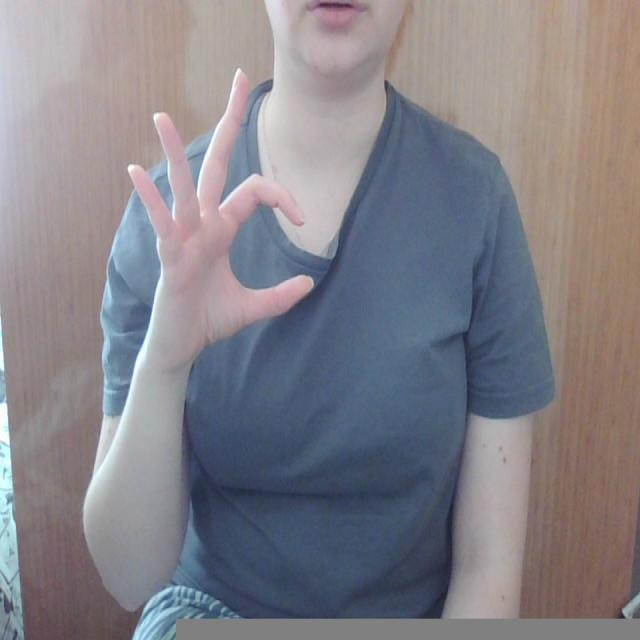Tuvalet: (90, 53, 320, 375)
